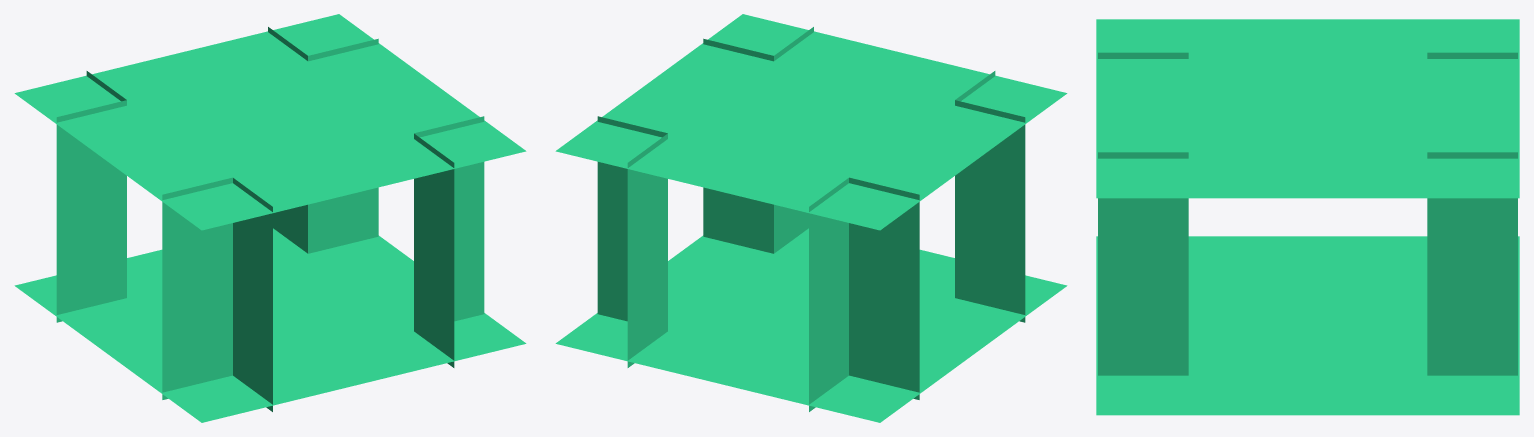
Rendered from ColDuctIntersection.fbx.
3 views of the same model, side by side, from view 1: azimuth 30°, elevation 25°; view 2: azimuth 150°, elevation 25°; view 3: azimuth 270°, elevation 25° (orthographic). The views are drawn at different scales.
Parts seen in each view (by area): view 1: ColDuctIntersection; view 2: ColDuctIntersection; view 3: ColDuctIntersection.
Boxes of the visible parts, x1,y1,x2,y2 form: ColDuctIntersection: [14, 14, 526, 422]; ColDuctIntersection: [555, 14, 1067, 422]; ColDuctIntersection: [1096, 19, 1519, 415].
Size of the model in its own units: 200 by 121 by 200.
